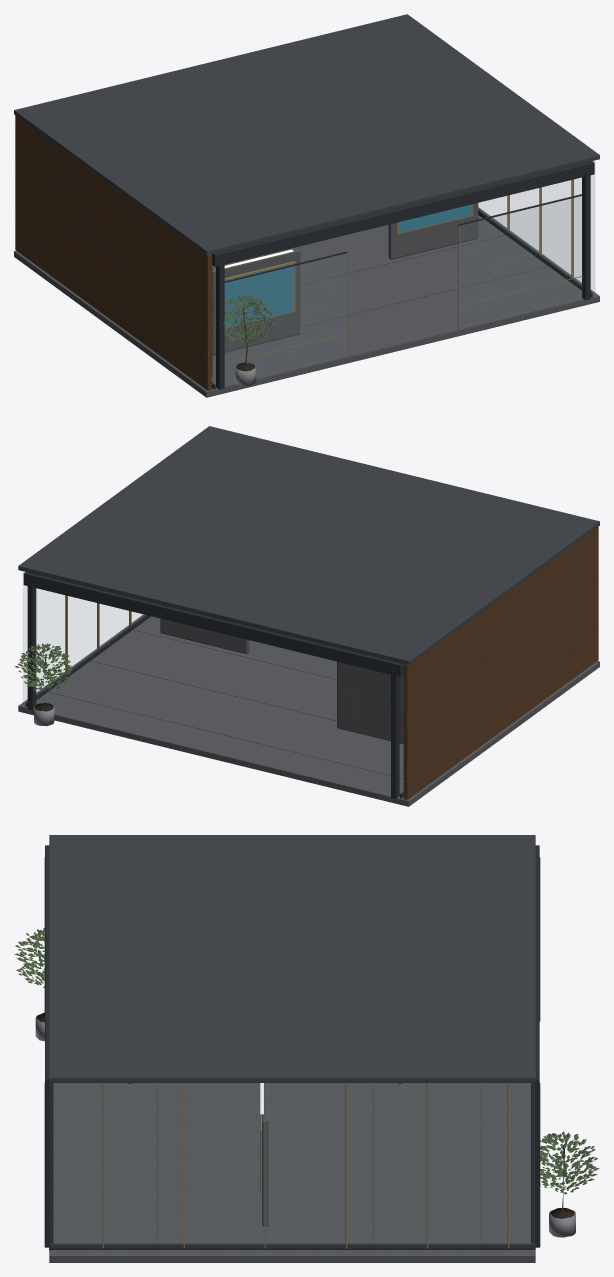
Rendered from environment-3.glb.
The picture shows the model from 3 angles, top to bottom: view 1: azimuth 30°, elevation 25°; view 2: azimuth 150°, elevation 25°; view 3: azimuth 270°, elevation 25°; orthographic projection. The views are drawn at different scales.
Parts seen in each view (by area): view 1: Continuous floor slab; view 2: Continuous floor slab; view 3: Continuous floor slab.
Part boxes in pixels (<box>): Continuous floor slab: <box>14,14,599,397</box>; Continuous floor slab: <box>14,426,599,806</box>; Continuous floor slab: <box>14,835,599,1262</box>.
Bounding box in the file's own units: 17 × 6.07 × 17.35.
Materials: 12 (3 with a texture image).
